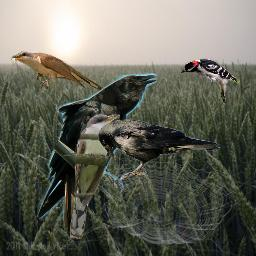Crow: (37, 73, 157, 234), (98, 119, 221, 181)
Cuckoo: (70, 114, 120, 239), (9, 51, 120, 100)
Woodpecker: (181, 58, 240, 106)
